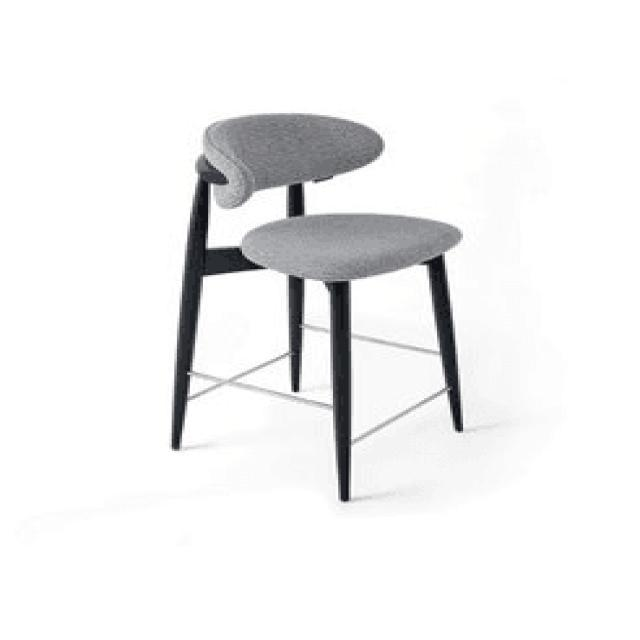chair: (168, 108, 470, 506), (200, 114, 473, 280)
